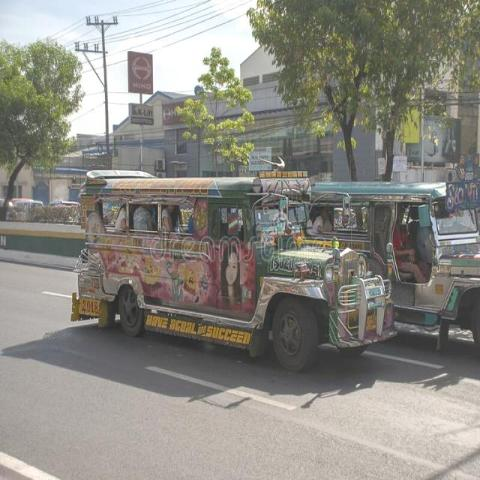jeepney: (79, 172, 395, 375), (292, 156, 480, 356)
